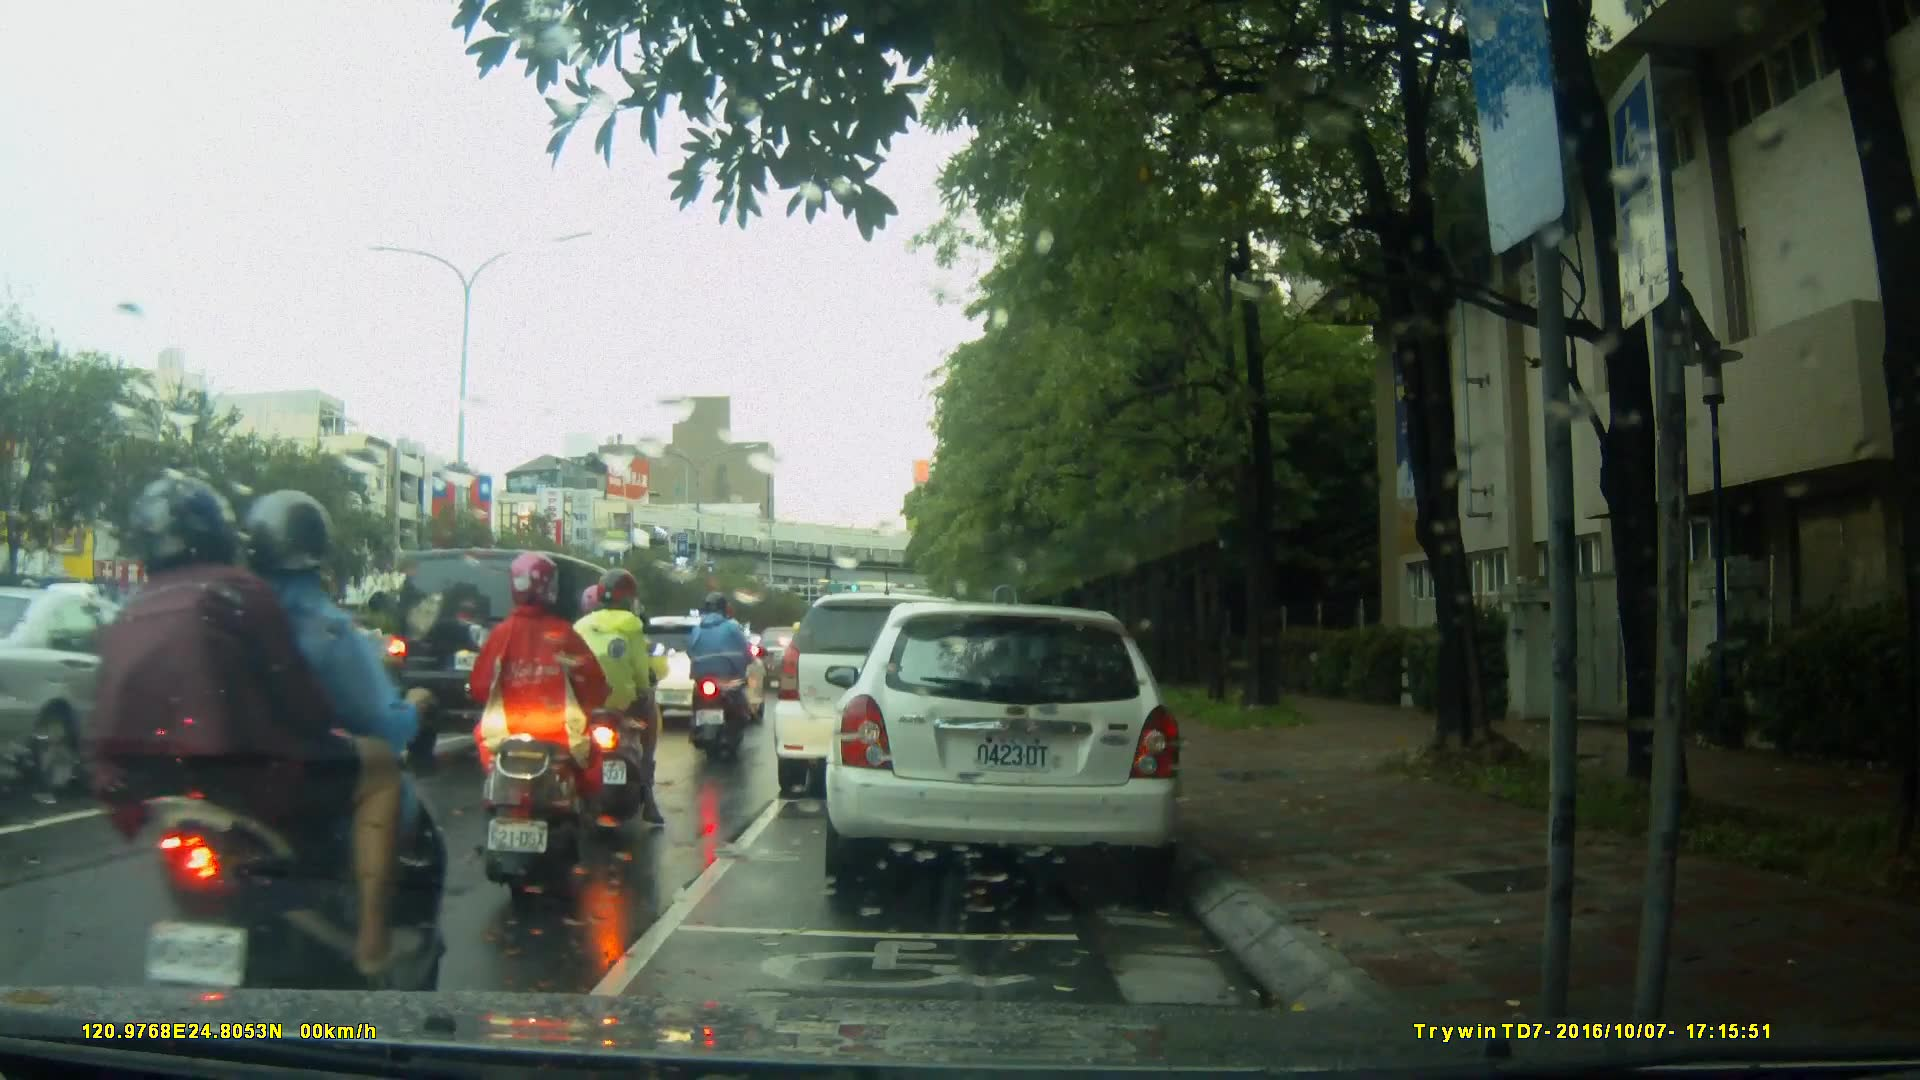rider: (80, 480, 435, 1024), (468, 549, 618, 914), (230, 566, 389, 806), (569, 569, 681, 835), (593, 595, 670, 807), (681, 592, 757, 757)
vehicle: (822, 604, 1188, 883), (388, 546, 654, 764), (774, 595, 995, 802)
